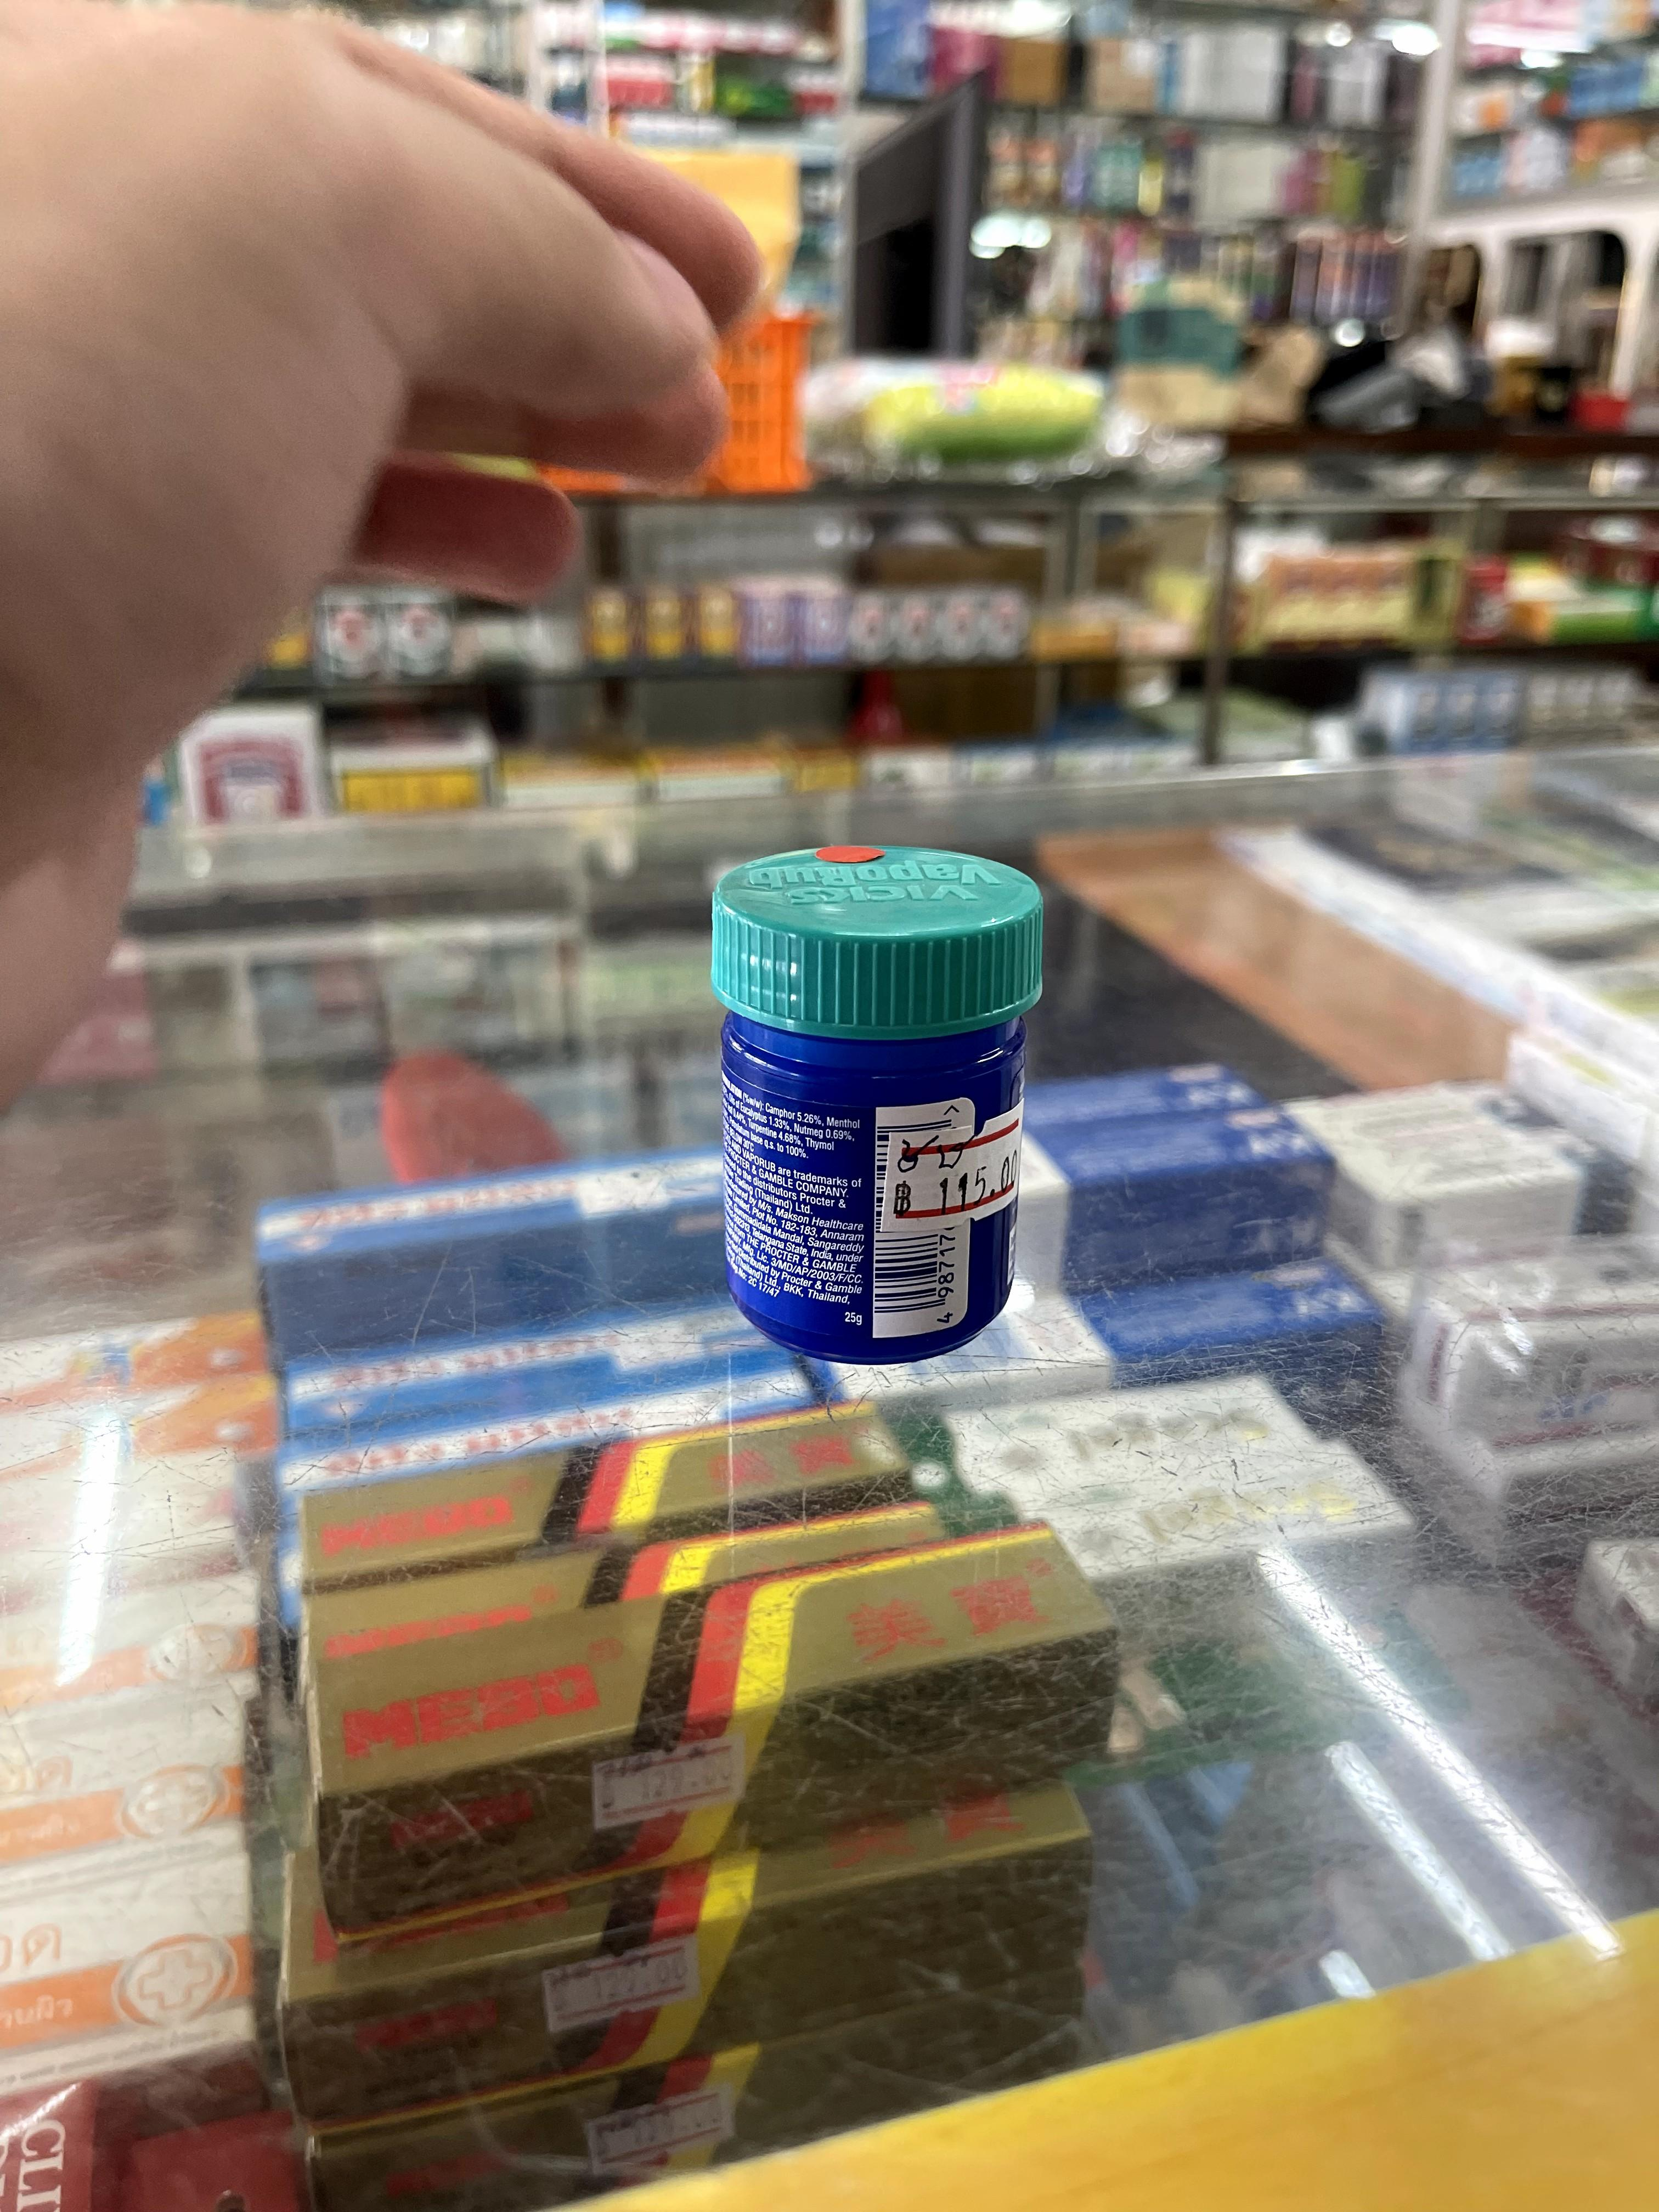VapoRub_Mid: (716, 840, 1040, 1355)
